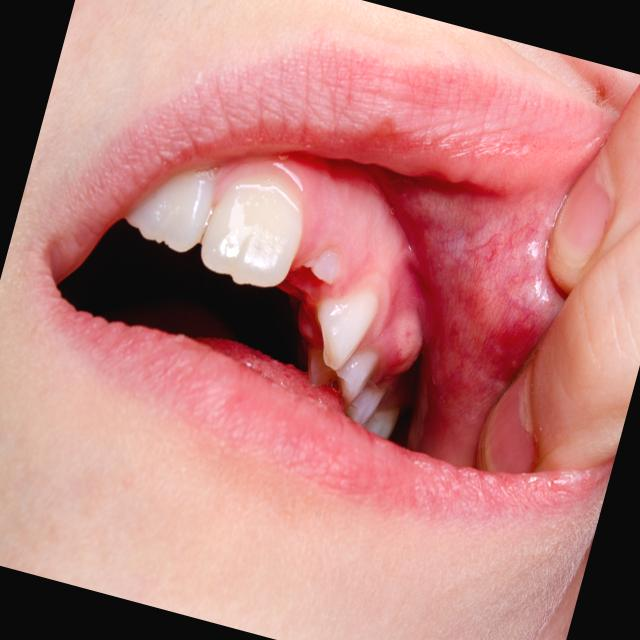abscess: (353, 259, 451, 417)
